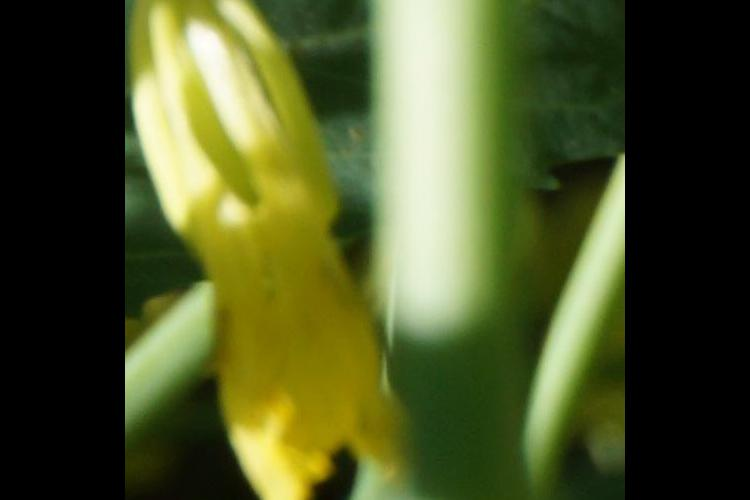yellow: (163, 1, 345, 500)
